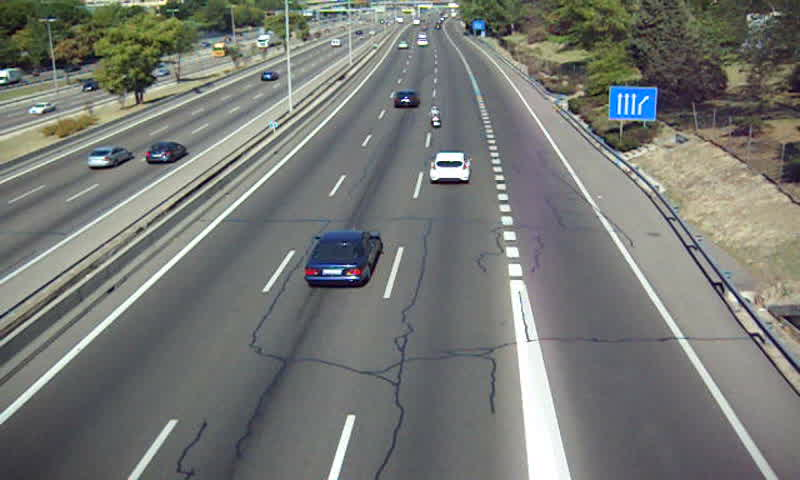car: (305, 229, 383, 287), (429, 152, 470, 183), (392, 91, 420, 110)
motorcycle: (428, 105, 444, 130)
